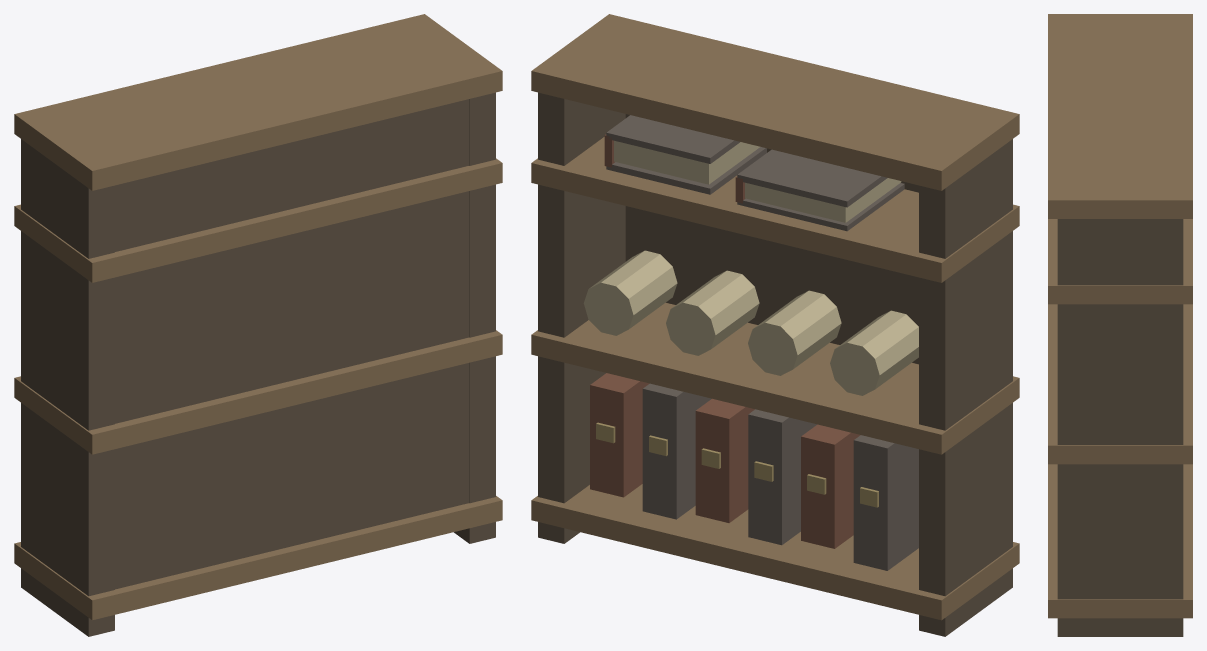
File: DG_Shelf_ScrollArchive.fbx
3 renders of one model, left to right at view 1: azimuth 30°, elevation 25°; view 2: azimuth 150°, elevation 25°; view 3: azimuth 270°, elevation 25°, orthographic. The views are drawn at different scales.
Parts seen in each view (by area): view 1: DG_Shelf_ScrollArchive; view 2: DG_Shelf_ScrollArchive; view 3: DG_Shelf_ScrollArchive.
Boxes of the visible parts, bbox=[...] form: DG_Shelf_ScrollArchive: bbox=[14, 14, 502, 636]; DG_Shelf_ScrollArchive: bbox=[531, 14, 1019, 636]; DG_Shelf_ScrollArchive: bbox=[1048, 14, 1192, 636].
Bounding box in the file's own units: 1.4 × 1.53 × 0.46.
